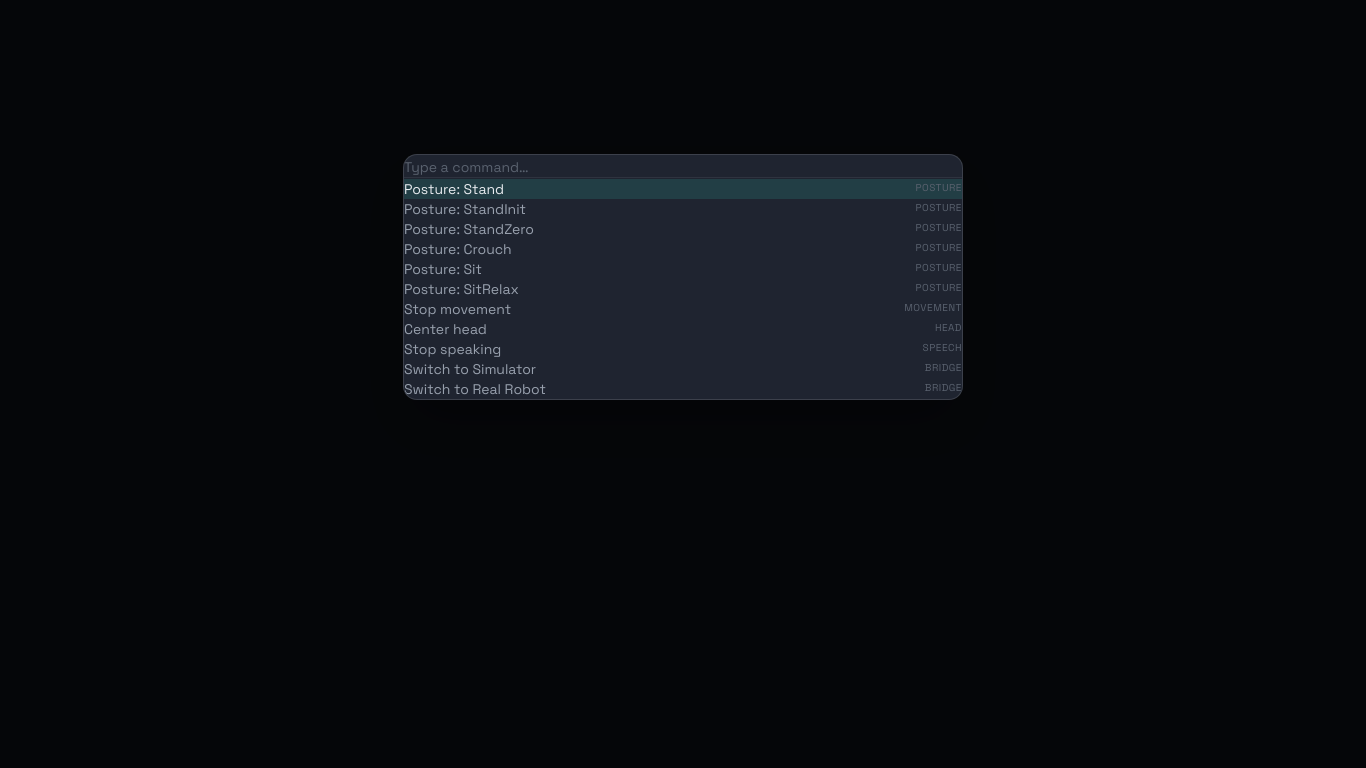
Scenario: CommandPalette › shows an empty state for no matches
Type "zzzzz" into the field with placeholder "Type a command…" at [683, 167], box [404,157,962,178]
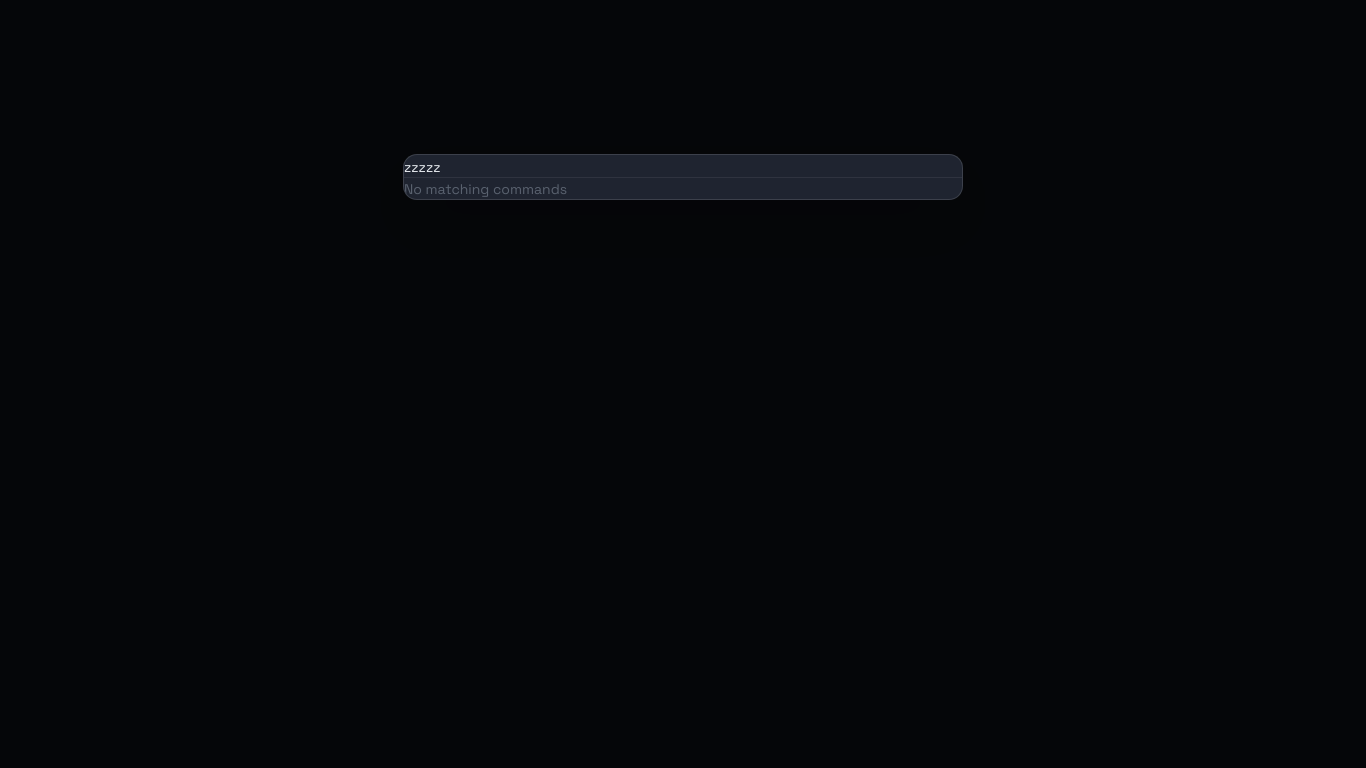
Expected: the list item "No matching commands" is shown, [404,180,567,198]
